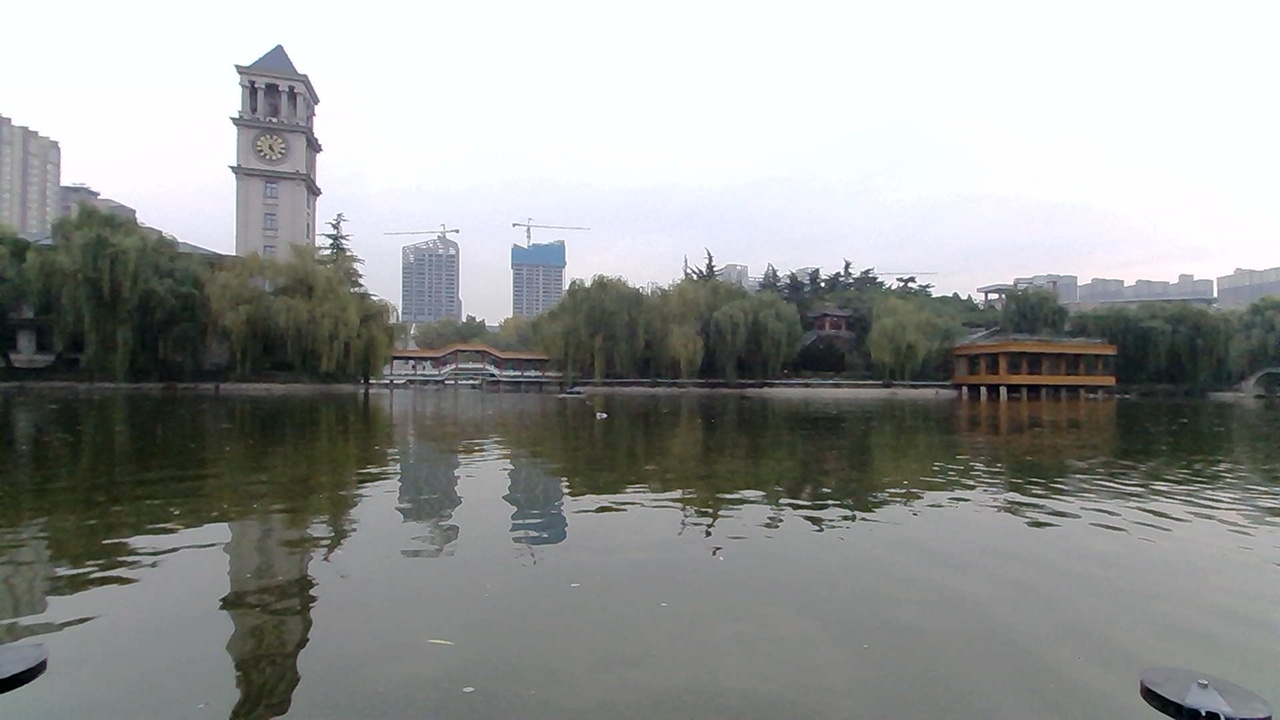bottle: (583, 404, 628, 428)
